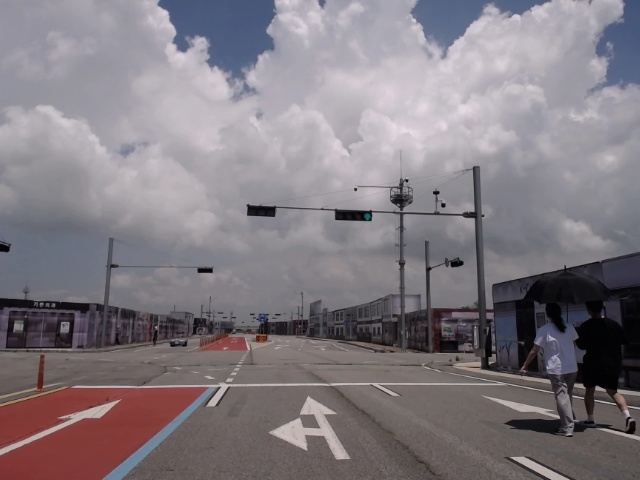straight_green_4: (335, 210, 372, 223)
